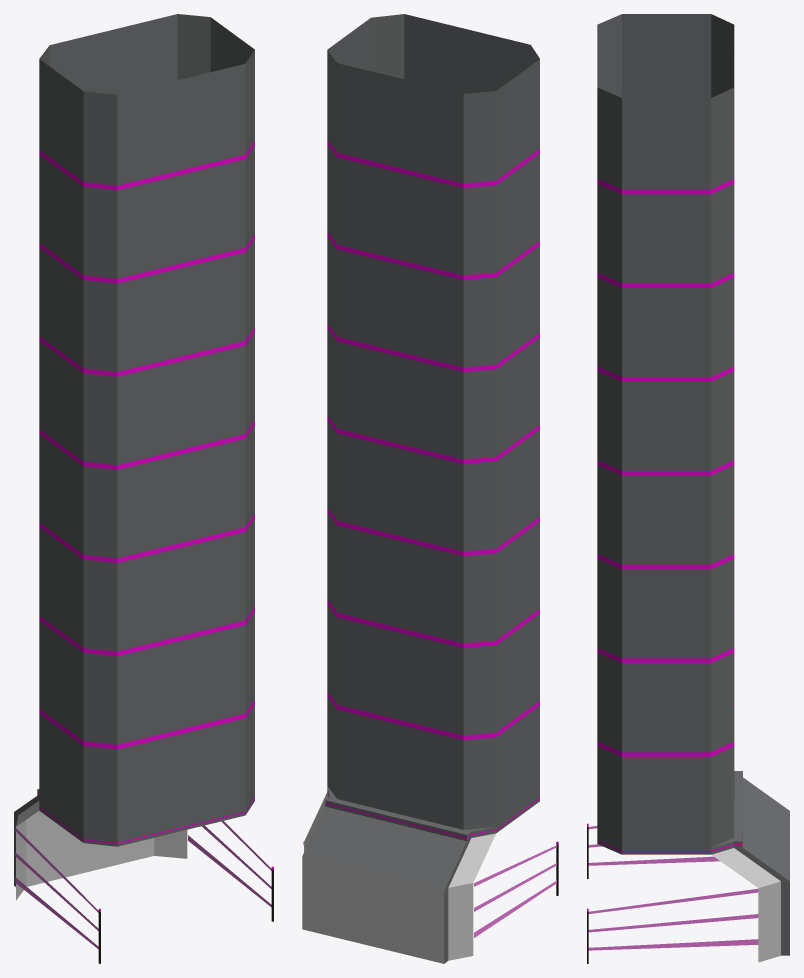
Rendered from Lower_Plaza_LiftShaft.fbx.
The picture shows the model from 3 angles, left to right: view 1: azimuth 30°, elevation 25°; view 2: azimuth 150°, elevation 25°; view 3: azimuth 270°, elevation 25°; orthographic projection.
Visible parts, largest first — view 1: Lower_Plaza_LiftShaft; view 2: Lower_Plaza_LiftShaft; view 3: Lower_Plaza_LiftShaft.
Part boxes in pixels (x1,y1,x2,y2): Lower_Plaza_LiftShaft: [14, 14, 273, 963]; Lower_Plaza_LiftShaft: [302, 14, 558, 963]; Lower_Plaza_LiftShaft: [587, 14, 789, 963].
Bounding box in the file's own units: 23.85 × 112 × 23.9.
